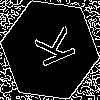K: (25, 25, 77, 73)
